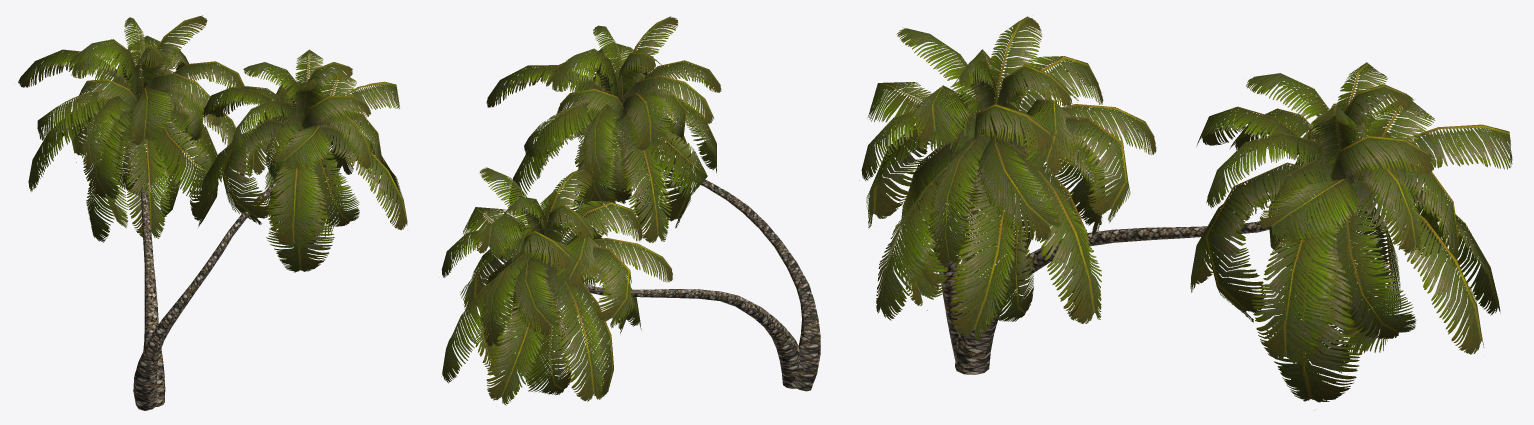
The model's file is flora_tree_palm_tropical_v3.glb.
The picture shows the model from 3 angles, left to right: view 1: azimuth 30°, elevation 25°; view 2: azimuth 150°, elevation 25°; view 3: azimuth 270°, elevation 25°; orthographic projection. The views are drawn at different scales.
Visible parts, largest first — view 1: flora_tree_palm_tropical_v3_part0; view 2: flora_tree_palm_tropical_v3_part0; view 3: flora_tree_palm_tropical_v3_part0.
Boxes of the visible parts, bbox=[...] form: flora_tree_palm_tropical_v3_part0: bbox=[18, 15, 407, 410]; flora_tree_palm_tropical_v3_part0: bbox=[441, 16, 820, 405]; flora_tree_palm_tropical_v3_part0: bbox=[859, 16, 1512, 402].
Size of the model in its own units: 15.57 by 15.63 by 21.28.
1 material, 1 textured.
